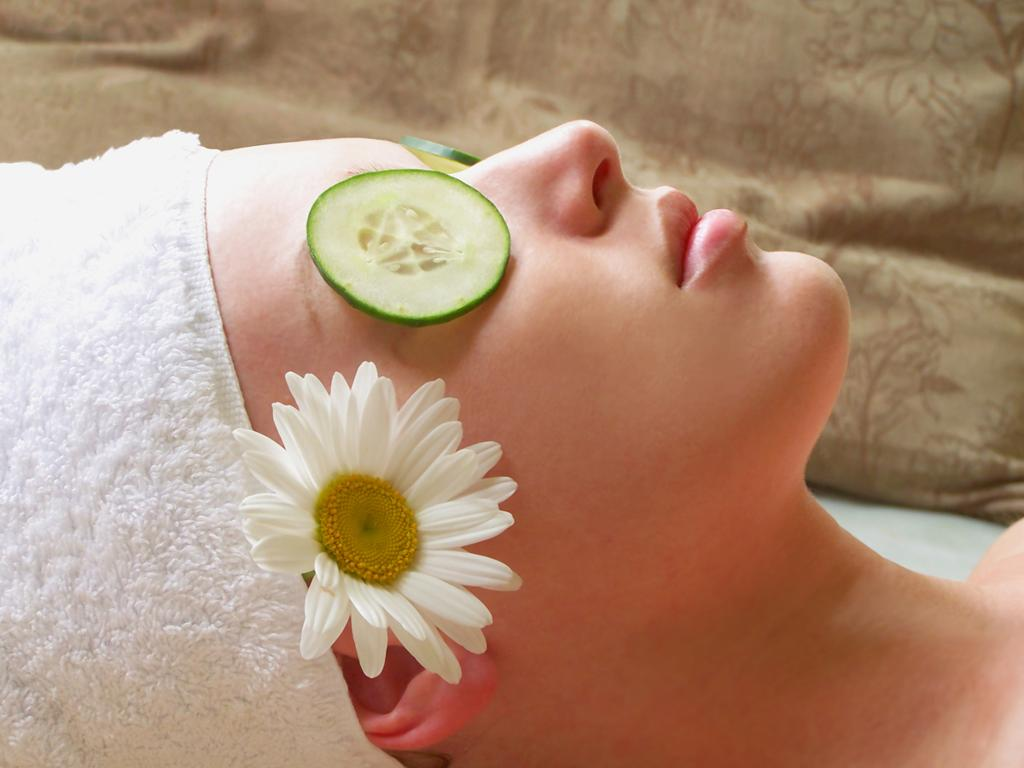face: (160, 118, 848, 546)
